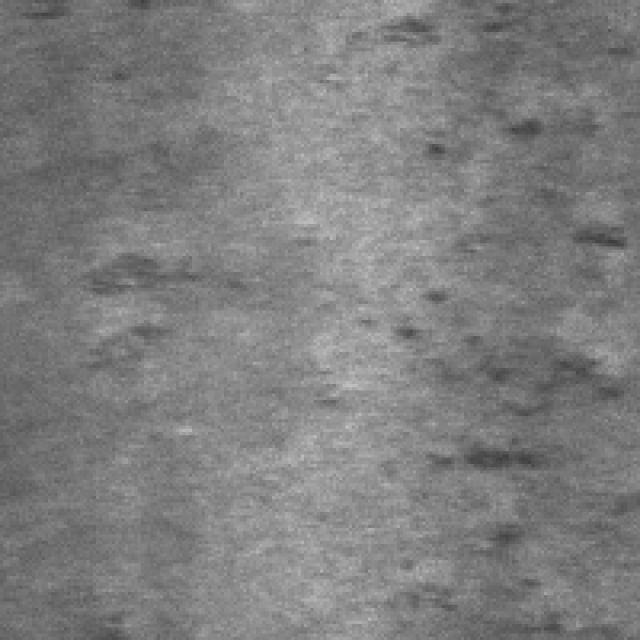rolled-in_scale: (397, 102, 621, 624), (64, 243, 214, 371)
